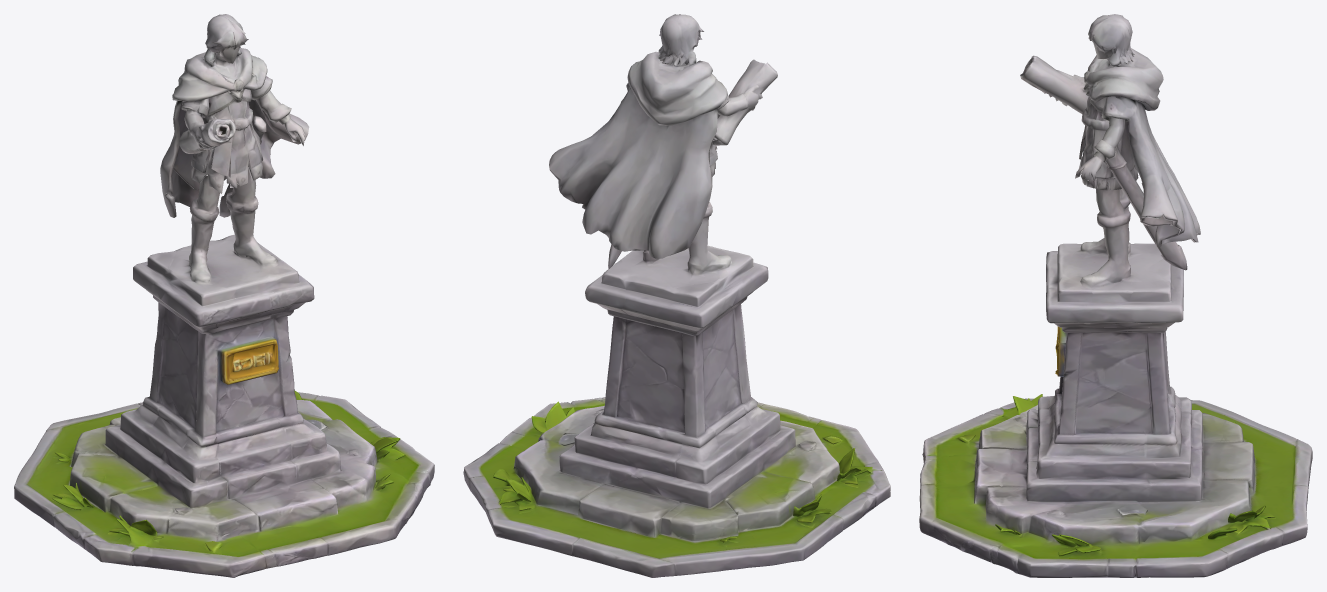
Rendered from founder_statue.glb.
The picture shows the model from 3 angles, left to right: view 1: azimuth 30°, elevation 25°; view 2: azimuth 150°, elevation 25°; view 3: azimuth 270°, elevation 25°; orthographic projection.
Parts seen in each view (by area): view 1: tripo_node_d574daea-0608-4f14-ac92-3bc8f62eeede; view 2: tripo_node_d574daea-0608-4f14-ac92-3bc8f62eeede; view 3: tripo_node_d574daea-0608-4f14-ac92-3bc8f62eeede.
Part boxes in pixels (bbox=[...]): tripo_node_d574daea-0608-4f14-ac92-3bc8f62eeede: bbox=[14, 14, 434, 577]; tripo_node_d574daea-0608-4f14-ac92-3bc8f62eeede: bbox=[463, 14, 890, 577]; tripo_node_d574daea-0608-4f14-ac92-3bc8f62eeede: bbox=[919, 14, 1312, 577].
Size of the model in its own units: 0.7382 by 0.9766 by 0.7263.
Materials: 1 (1 with a texture image).
